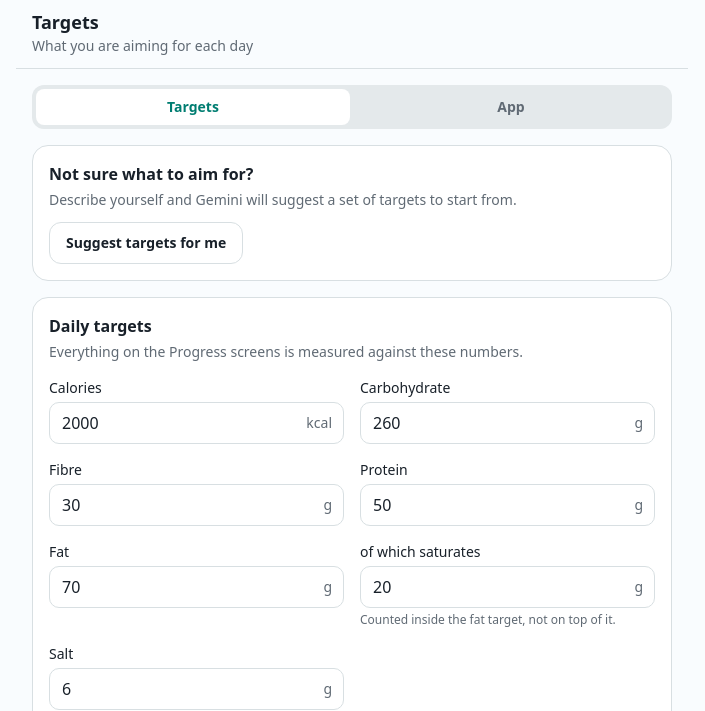
it: suggesting targets › shows the reasoning and anything it had to assume
Click the button "Suggest targets for me": (146, 243) [49, 222, 243, 264]
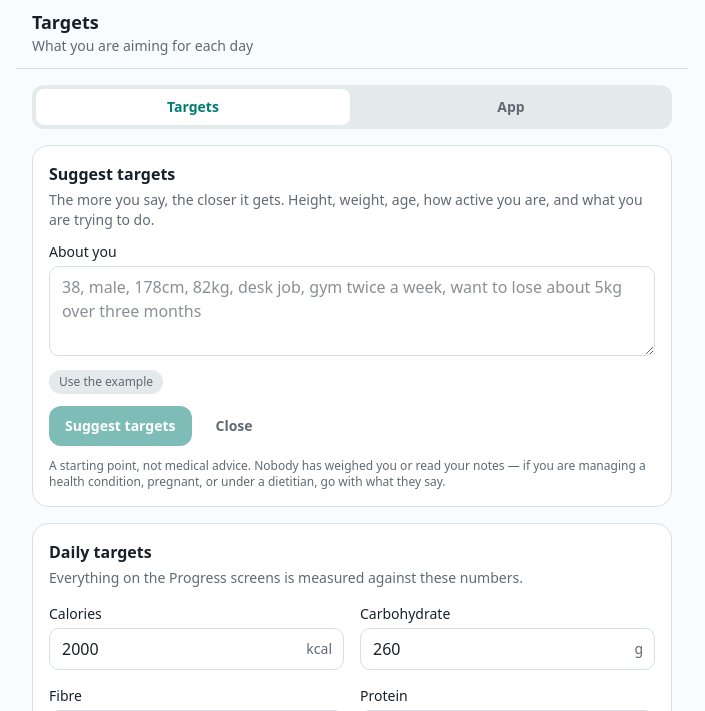
In the text box labelled "About you": (352, 311) [49, 266, 655, 356], type "anything"
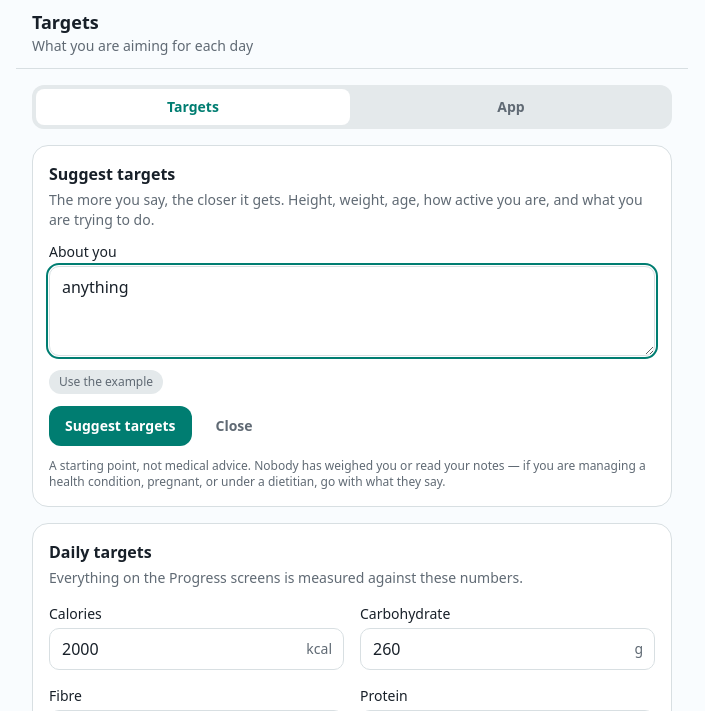
Click the button "Suggest targets": (120, 426) [49, 406, 192, 446]
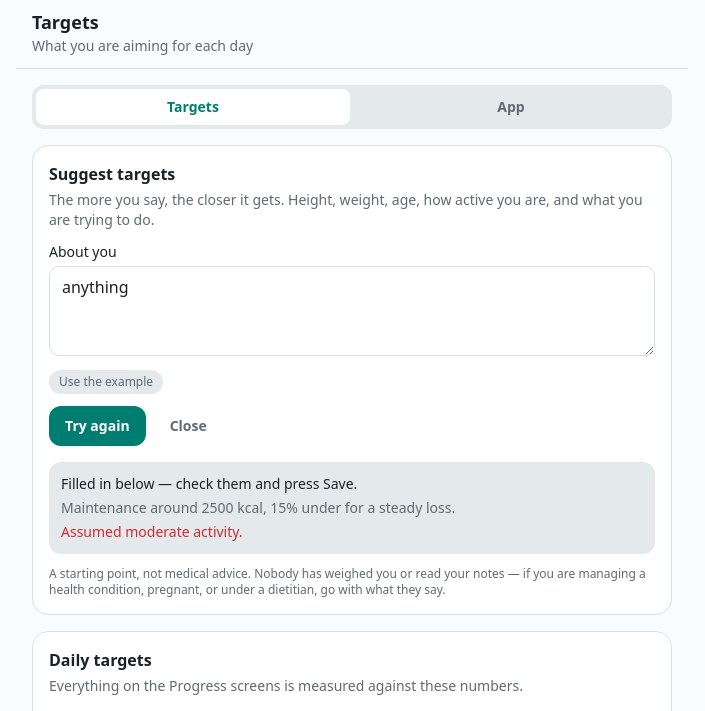
Now the text "Maintenance around 2500 kcal, 15% under for a steady loss." is shown, box [61, 498, 455, 517]
Now the text "Assumed moderate activity." is shown, box [61, 522, 243, 541]
